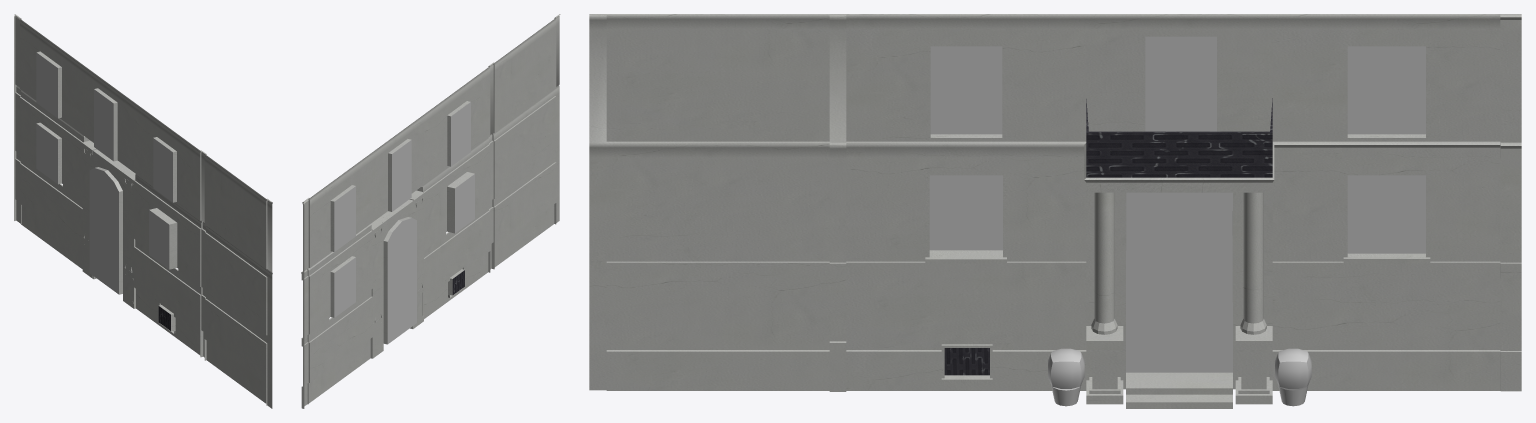
Rendered from hotel.fbx.
3 renders of one model, left to right at view 1: azimuth 30°, elevation 25°; view 2: azimuth 150°, elevation 25°; view 3: azimuth 270°, elevation 25°, orthographic. The views are drawn at different scales.
Visible parts, largest first — view 1: hotel; view 2: hotel; view 3: hotel.
Part boxes in pixels (x1,y1,x2,y2): hotel: (14, 14, 272, 408); hotel: (301, 14, 560, 408); hotel: (589, 14, 1521, 408).
Size of the model in its own units: 125 by 500 by 1125.
